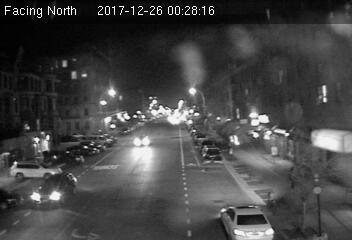car: (220, 205, 271, 240), (31, 172, 76, 207), (201, 148, 224, 165), (132, 135, 150, 146)
